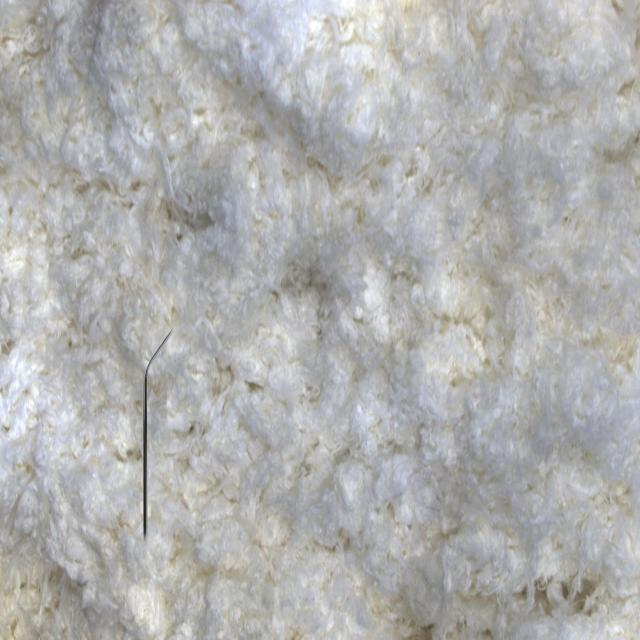dust: (108, 303, 190, 569)
